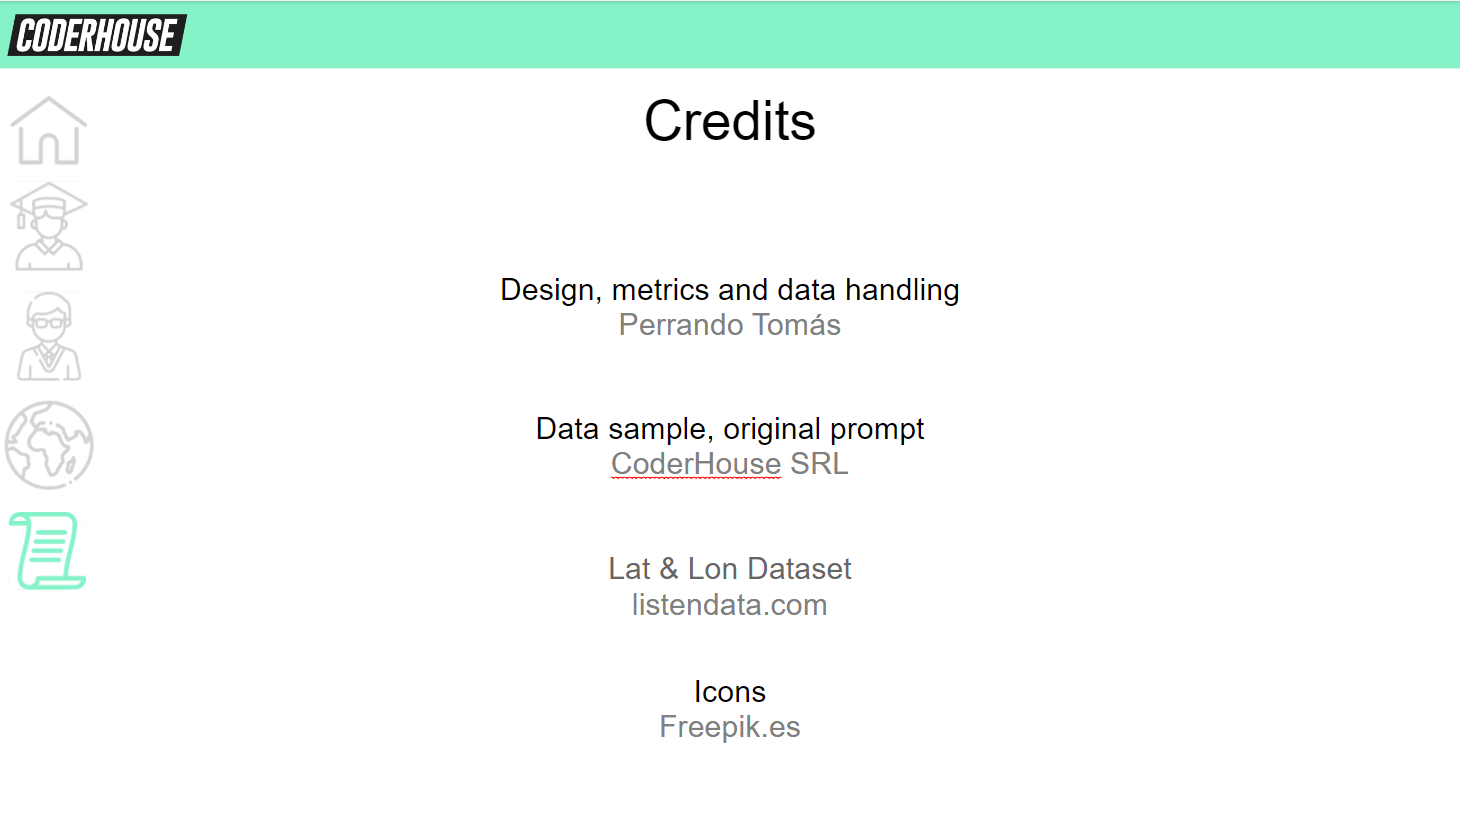

Layout of this report page (visuals, bound fields, positions):
{"tool":"powerbi","page":{"name":"Créditos","canvas":[1280,720],"ordinal":5},"visuals":[{"type":"shape","box":[0,0,1279.7,58.7],"z":1000},{"type":"image","box":[0,0,171.7,58.7],"z":2000},{"type":"textbox","box":[320.6,72.7,639.4,647.3],"z":3000},{"type":"actionButton","box":[0.9,249.2,85.8,87.6],"z":4000},{"type":"actionButton","box":[0.9,153.5,85.8,87.6],"z":5000},{"type":"actionButton","box":[0.9,344.9,85.8,87.6],"z":6000},{"type":"actionButton","box":[6.1,72.7,75.3,80.6],"z":7000},{"type":"actionButton","box":[4.4,440.6,76.2,82.3],"z":8000}]}

Visuals, with their boxes in screenshot pixels (x1, y1, x2, y2), scaled from the page's 1280x720 canvas onto the 1460x821 screenshot:
shape: bbox=(0, 0, 1459, 67)
image: bbox=(0, 0, 196, 67)
textbox: bbox=(366, 83, 1095, 820)
actionButton: bbox=(1, 284, 99, 384)
actionButton: bbox=(1, 175, 99, 275)
actionButton: bbox=(1, 393, 99, 493)
actionButton: bbox=(7, 83, 93, 175)
actionButton: bbox=(5, 502, 92, 596)
